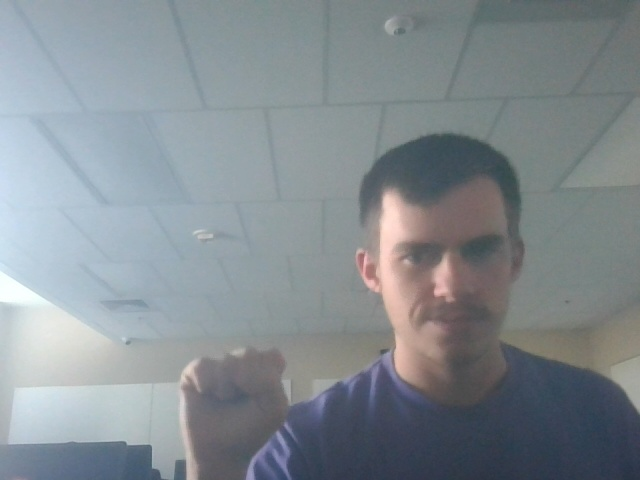yes: (162, 336, 314, 451)
